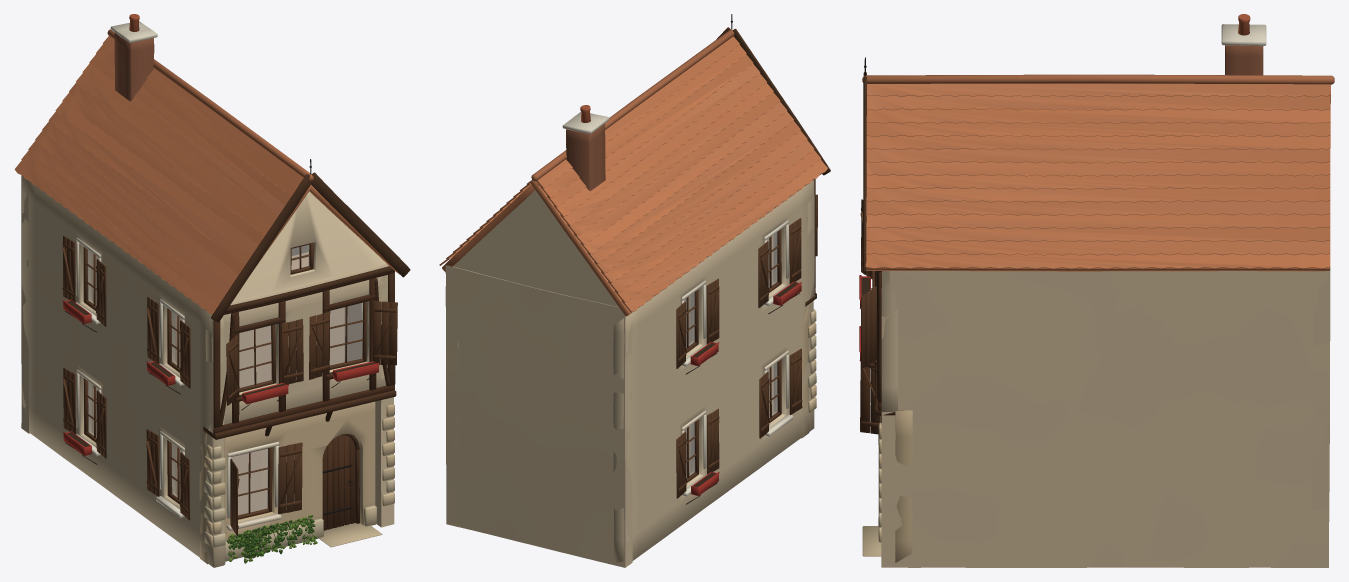
File: StraightEnd_Outer5.glb
3 views of the same model, side by side, from view 1: azimuth 30°, elevation 25°; view 2: azimuth 150°, elevation 25°; view 3: azimuth 270°, elevation 25° (orthographic). The views are drawn at different scales.
Parts seen in each view (by area): view 1: Sammel Putz, Sammel Stein, Sammel Holz, Sammel Quader, Glas, Sammel Putz innen, Sammel Lack, Sammel Ziegel, Sammel Pflanze; view 2: Sammel Putz, Sammel Stein, Sammel Holz, Sammel Ziegel, Glas, Sammel Lack, Sammel Putz innen, Sammel Quader; view 3: Sammel Putz, Sammel Stein, Sammel Holz, Sammel Quader, Sammel Ziegel.
Part boxes in pixels (x1,y1,x2,y2): Sammel Putz: (21,14,394,567); Sammel Stein: (14,29,399,561); Sammel Holz: (62,172,410,535); Sammel Quader: (199,401,375,564); Glas: (87,245,362,515); Sammel Putz innen: (91,252,361,514); Sammel Lack: (62,299,379,455); Sammel Ziegel: (114,33,154,101); Sammel Pflanze: (227,514,317,563); Sammel Putz: (445,105,814,567); Sammel Stein: (439,29,827,412); Sammel Holz: (676,27,830,498); Sammel Ziegel: (566,123,605,190); Glas: (684,232,777,477); Sammel Lack: (690,281,802,495); Sammel Putz innen: (684,235,773,475); Sammel Quader: (801,305,809,438); Sammel Putz: (861,14,1330,567); Sammel Stein: (862,74,1334,556); Sammel Holz: (860,72,903,434); Sammel Quader: (895,410,912,562); Sammel Ziegel: (1225,45,1263,75).
Size of the model in its own units: 5.14 by 10.08 by 8.76.
